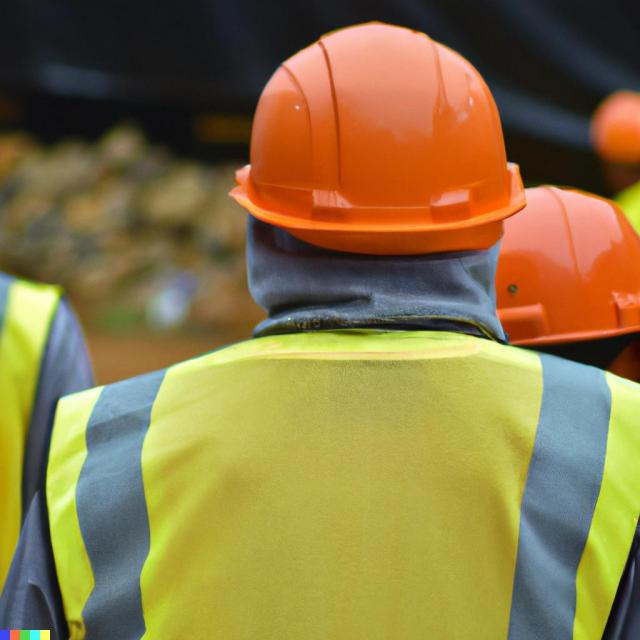Reflective-Jacket: (18, 322, 632, 636), (0, 244, 75, 634)
Safety-Helmet: (227, 20, 532, 252)
